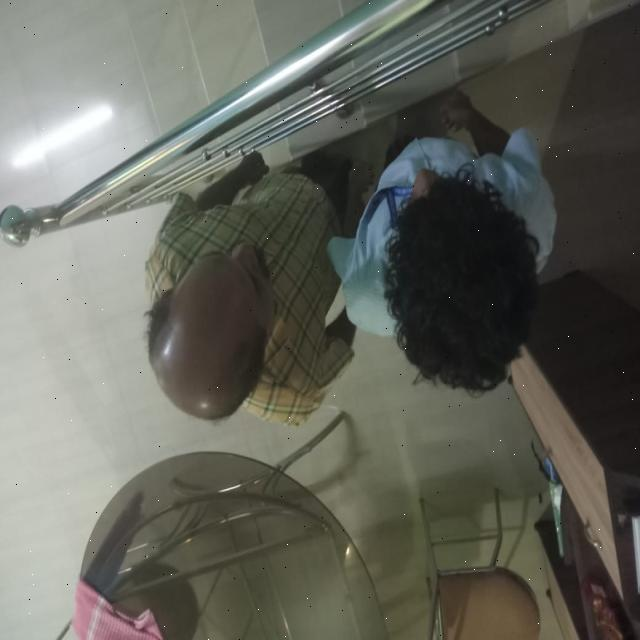humans: (340, 98, 560, 402), (140, 154, 356, 432)
